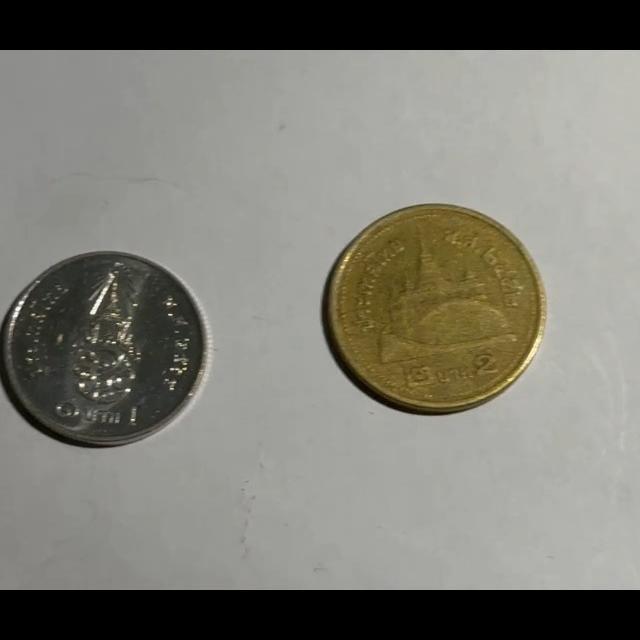1-baht: (0, 251, 206, 447)
2-baht: (324, 204, 545, 413)
